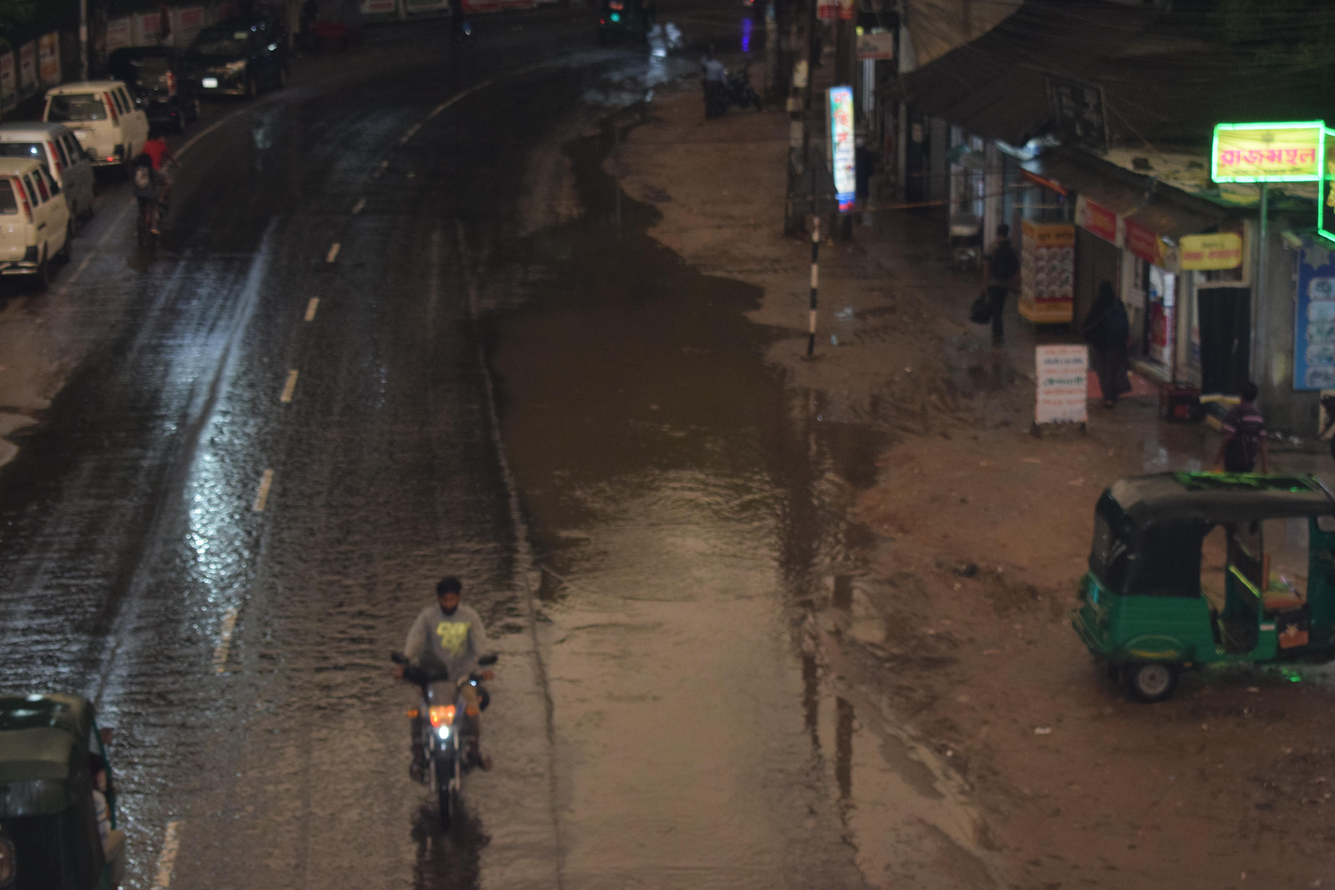Bike: (321, 533, 562, 869)
Car: (36, 63, 166, 202), (174, 8, 309, 107), (88, 36, 209, 140), (0, 146, 83, 286)
